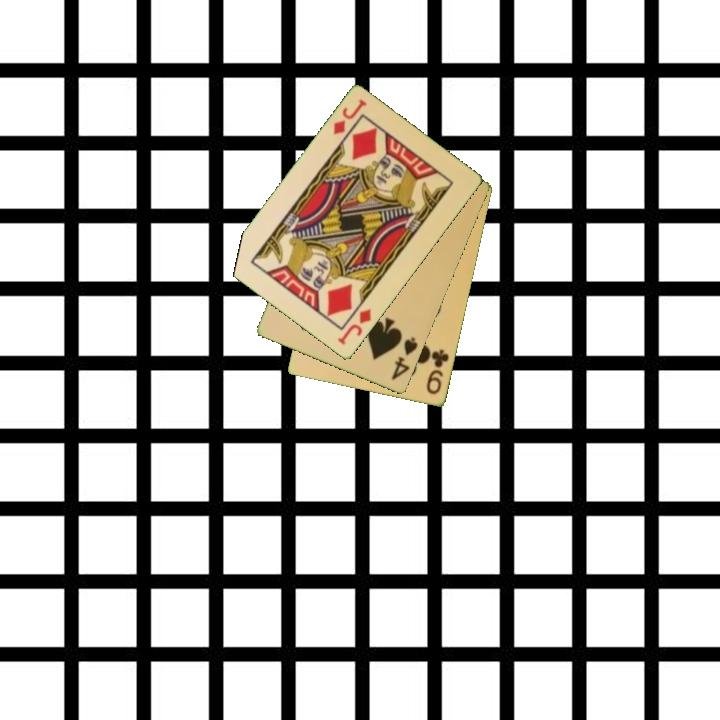4s: (388, 334, 421, 383)
9c: (423, 346, 452, 397)
Jd: (334, 306, 374, 348), (330, 96, 370, 138)
